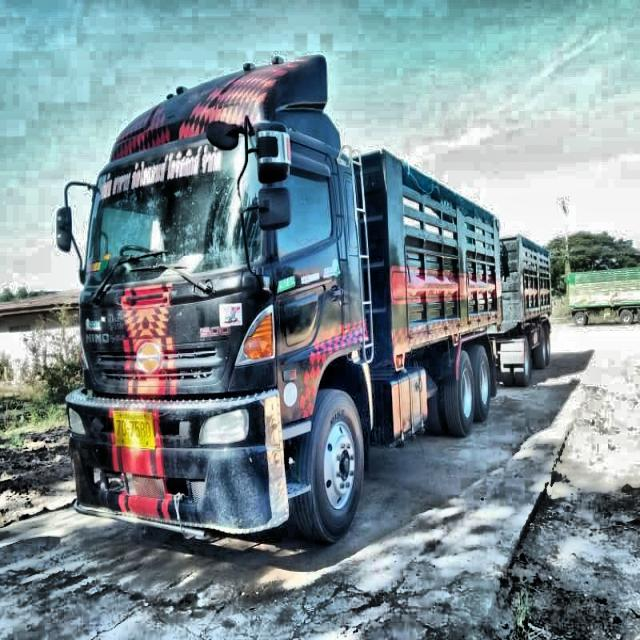trailer: (36, 28, 567, 568)
